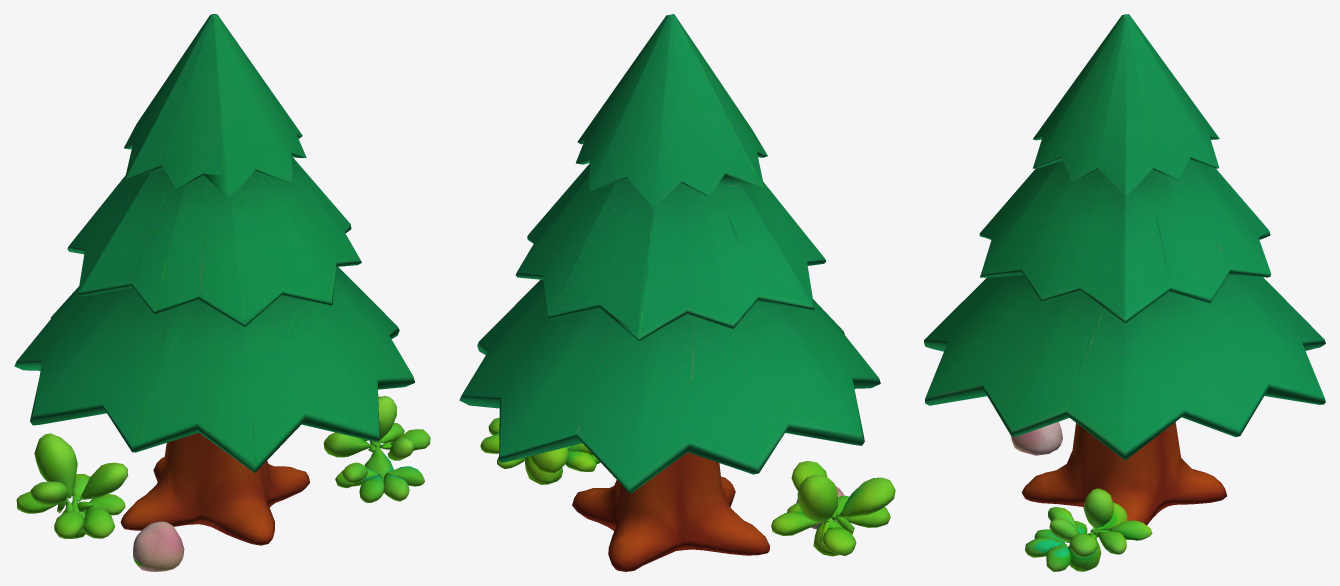
Rendered from r1c5_small_pine.glb.
The picture shows the model from 3 angles, left to right: view 1: azimuth 30°, elevation 25°; view 2: azimuth 150°, elevation 25°; view 3: azimuth 270°, elevation 25°; orthographic projection. The views are drawn at different scales.
Bounding box in the file's own units: 0.8203 × 1 × 0.748.
Materials: 1 (1 with a texture image).
